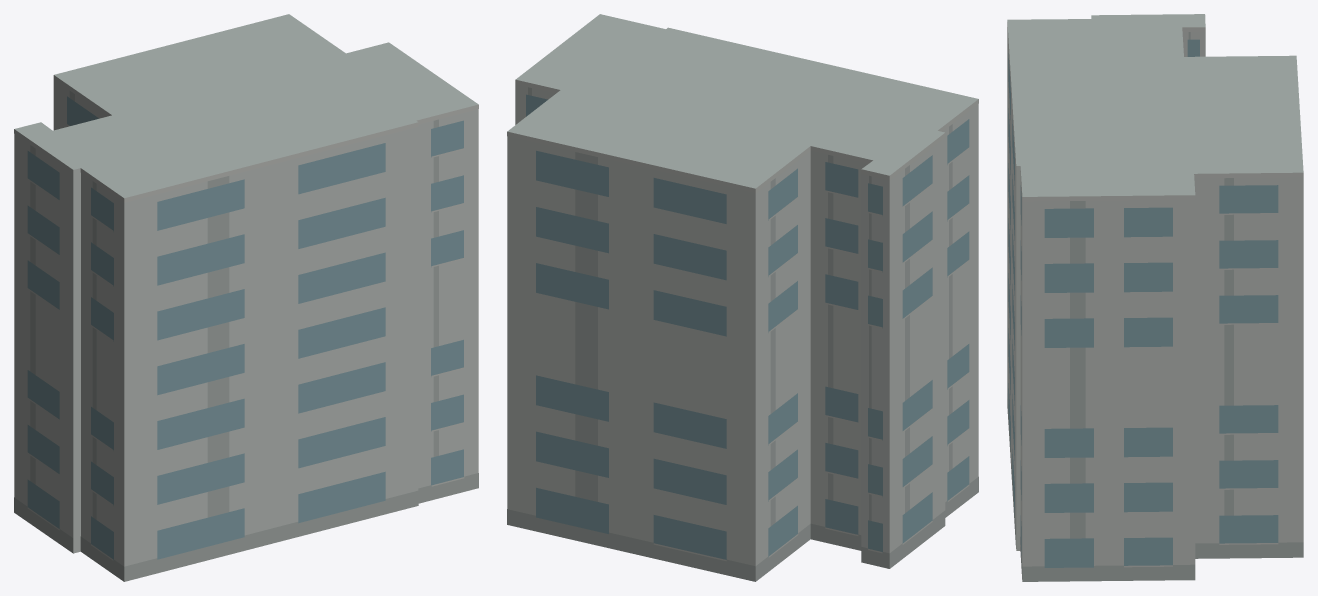
Rendered from survey-upis-32975038.glb.
3 views of the same model, side by side, from view 1: azimuth 30°, elevation 25°; view 2: azimuth 150°, elevation 25°; view 3: azimuth 270°, elevation 25° (orthographic). The views are drawn at different scales.
Visible parts, largest first — view 1: survey-upis-32975038.tmp; view 2: survey-upis-32975038.tmp; view 3: survey-upis-32975038.tmp.
Boxes of the visible parts, <box> form: survey-upis-32975038.tmp: <box>14,14,478,581</box>; survey-upis-32975038.tmp: <box>507,14,978,581</box>; survey-upis-32975038.tmp: <box>1007,14,1303,581</box>.
Size of the model in its own units: 20.6 by 20.2 by 14.1.
